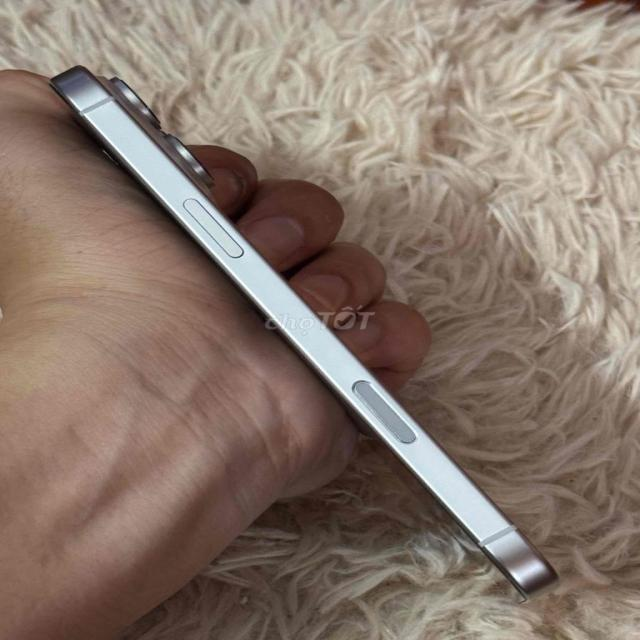gen_16: (53, 57, 569, 609)
